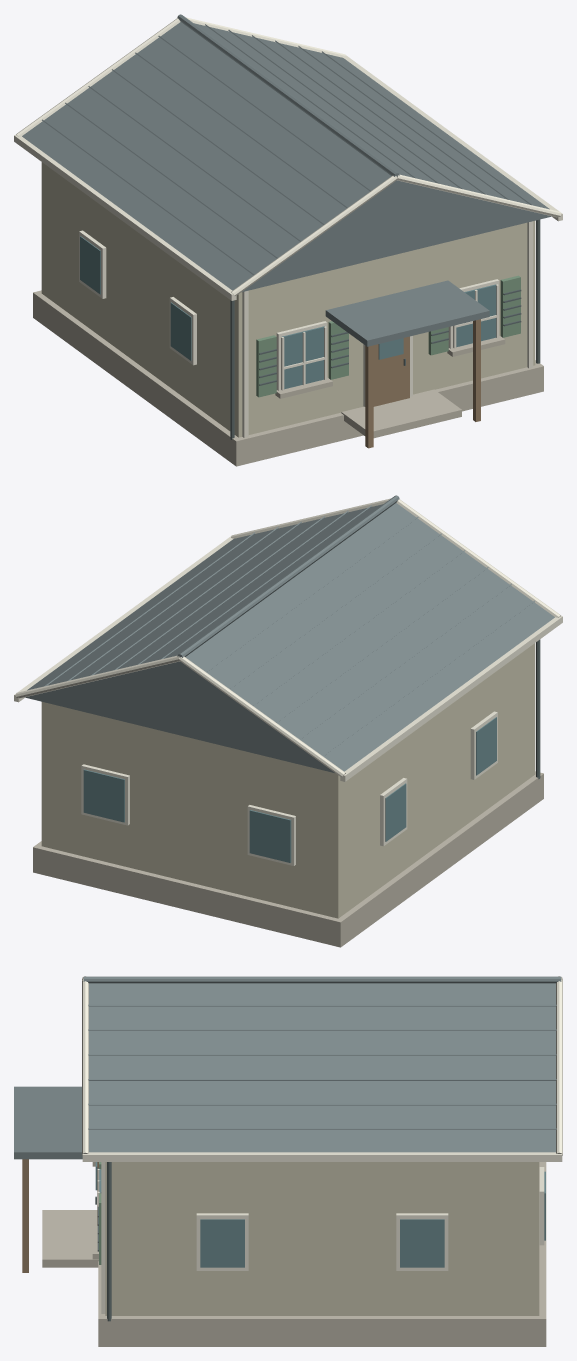
3 renders of one model, top to bottom at view 1: azimuth 30°, elevation 25°; view 2: azimuth 150°, elevation 25°; view 3: azimuth 270°, elevation 25°, orthographic. The views are drawn at different scales.
Size of the model in its own units: 8.93 by 6.72 by 11.64.
